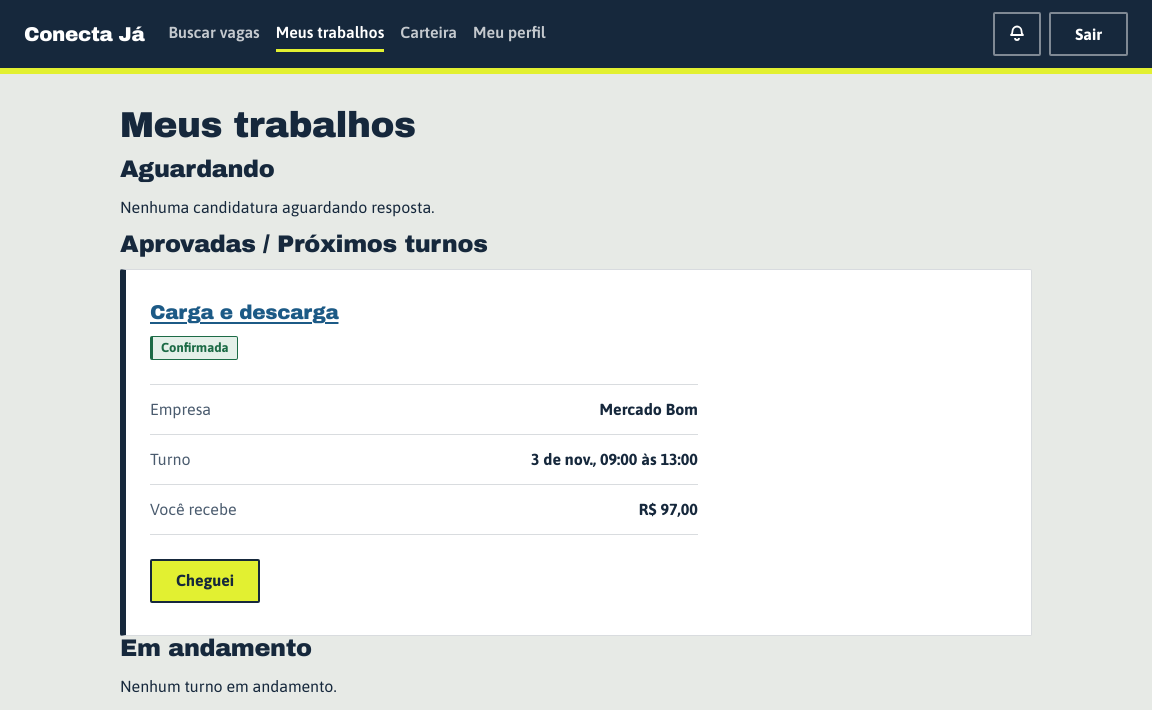
Test: Check-in e check-out (US50/US54) › mostra "Cheguei" dentro da janela e registra o check-in com as coordenadas
Click the button "Cheguei": click(205, 581) [150, 559, 260, 603]
(page scrolled)
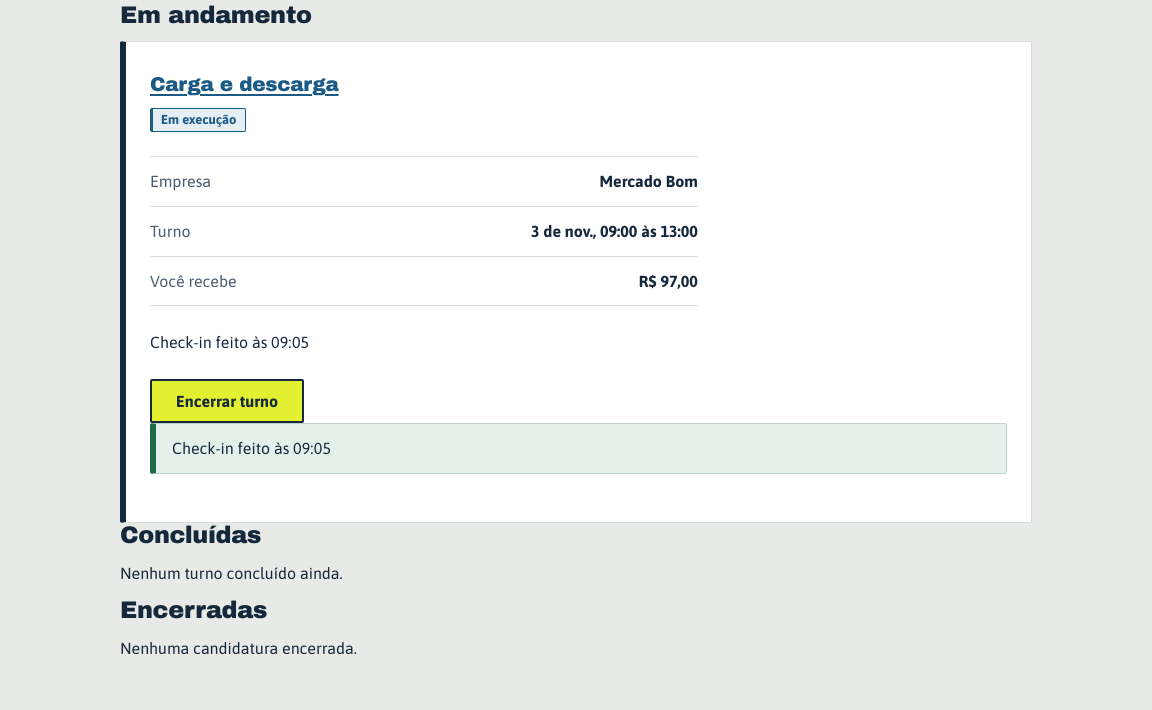
expect the text "Check-in feito às 09:05" is shown: met, box [150, 333, 309, 351]
expect the button "Cheguei" is gone: met
expect the button "Encerrar turno" is shown: met, box [150, 379, 304, 423]
